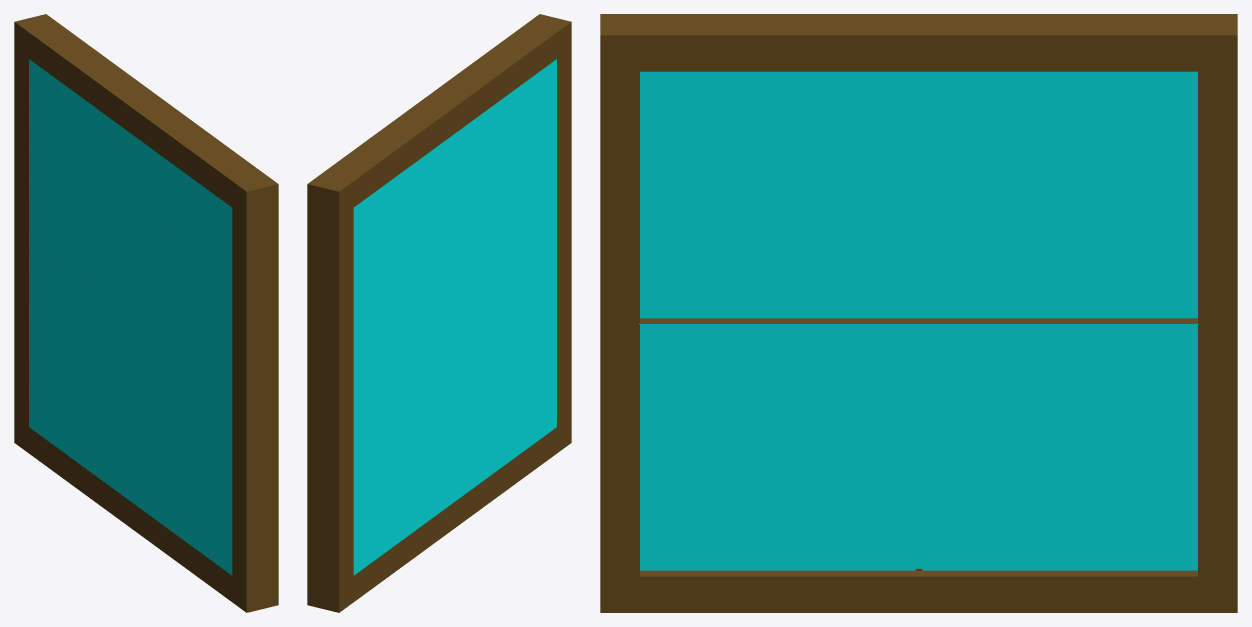
File: window.fbx
3 renders of one model, left to right at view 1: azimuth 30°, elevation 25°; view 2: azimuth 150°, elevation 25°; view 3: azimuth 270°, elevation 25°, orthographic. The views are drawn at different scales.
Parts seen in each view (by area): view 1: Cube; view 2: Cube; view 3: Cube.
Boxes of the visible parts, bbox=[...] form: Cube: bbox=[14, 14, 278, 612]; Cube: bbox=[307, 14, 571, 612]; Cube: bbox=[600, 14, 1237, 612].
Size of the model in its own units: 4.01 by 50.83 by 50.83.
1 material, 1 textured.
